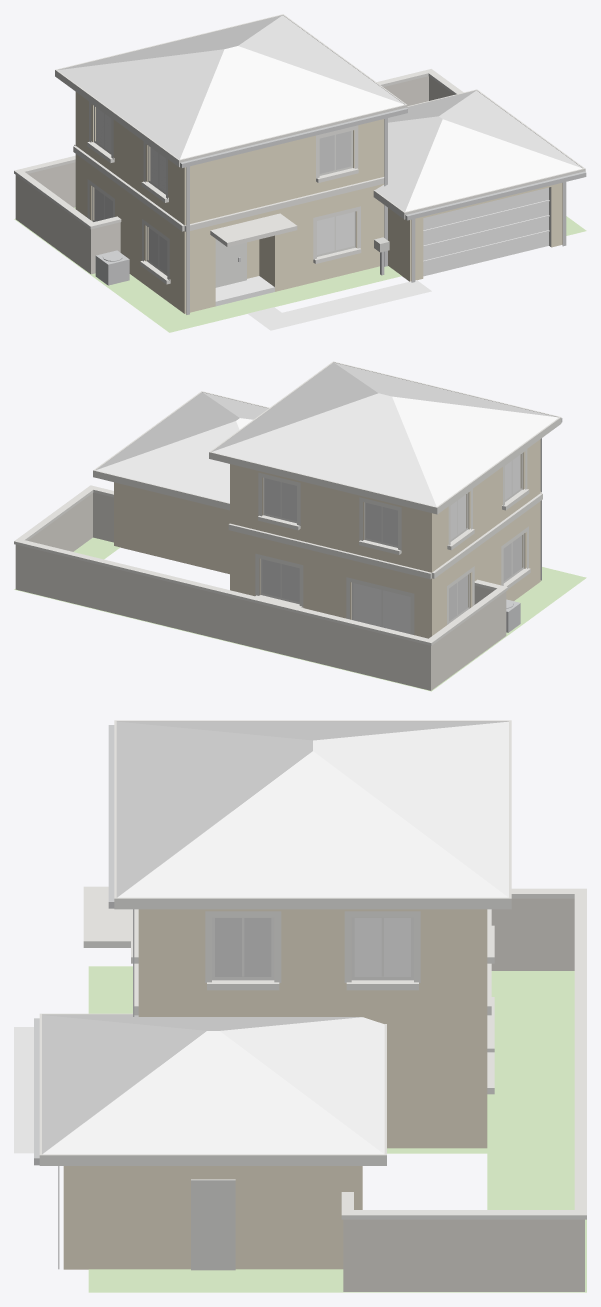
File: house_tract262s.glb
3 views of the same model, one above another, from view 1: azimuth 30°, elevation 25°; view 2: azimuth 150°, elevation 25°; view 3: azimuth 270°, elevation 25° (orthographic). The views are drawn at different scales.
Visible parts, largest first — view 1: house_tract262s_Roof, house_tract262s_Walls, house_tract262s_Trim, house_tract262s_Doors, house_tract262s_Walls2, house_tract262s_Lawn, house_tract262s_Details, house_tract262s_Site, house_tract262s_Glass, house_tract262s_Frames, house_tract262s_WindowsLit; view 2: house_tract262s_Roof, house_tract262s_Walls, house_tract262s_Walls2, house_tract262s_Trim, house_tract262s_WindowsLit, house_tract262s_Glass, house_tract262s_Lawn, house_tract262s_Frames, house_tract262s_Details; view 3: house_tract262s_Roof, house_tract262s_Walls, house_tract262s_Lawn, house_tract262s_Trim, house_tract262s_Walls2, house_tract262s_Accent, house_tract262s_Glass, house_tract262s_WindowsLit, house_tract262s_Details, house_tract262s_Site, house_tract262s_Frames.
Boxes of the visible parts, bbox=[...] form: house_tract262s_Roof: bbox=[58, 15, 582, 211]; house_tract262s_Walls: bbox=[75, 92, 562, 313]; house_tract262s_Trim: bbox=[14, 14, 585, 284]; house_tract262s_Doors: bbox=[423, 187, 549, 276]; house_tract262s_Walls2: bbox=[15, 76, 453, 274]; house_tract262s_Lawn: bbox=[14, 207, 586, 332]; house_tract262s_Details: bbox=[95, 107, 586, 314]; house_tract262s_Site: bbox=[215, 276, 431, 330]; house_tract262s_Glass: bbox=[96, 107, 354, 254]; house_tract262s_Frames: bbox=[92, 106, 355, 287]; house_tract262s_WindowsLit: bbox=[94, 131, 351, 273]; house_tract262s_Roof: bbox=[96, 362, 558, 506]; house_tract262s_Walls: bbox=[114, 439, 540, 638]; house_tract262s_Walls2: bbox=[15, 492, 506, 690]; house_tract262s_Trim: bbox=[14, 361, 561, 645]; house_tract262s_WindowsLit: bbox=[262, 478, 522, 621]; house_tract262s_Glass: bbox=[353, 454, 520, 634]; house_tract262s_Lawn: bbox=[14, 537, 586, 691]; house_tract262s_Frames: bbox=[260, 453, 524, 627]; house_tract262s_Details: bbox=[506, 418, 562, 632]; house_tract262s_Roof: bbox=[42, 721, 508, 1154]; house_tract262s_Walls: bbox=[63, 909, 487, 1269]; house_tract262s_Lawn: bbox=[88, 966, 586, 1292]; house_tract262s_Trim: bbox=[39, 720, 586, 1219]; house_tract262s_Walls2: bbox=[343, 898, 584, 1291]; house_tract262s_Accent: bbox=[191, 1179, 235, 1270]; house_tract262s_Glass: bbox=[354, 918, 410, 976]; house_tract262s_WindowsLit: bbox=[215, 918, 271, 976]; house_tract262s_Details: bbox=[34, 725, 134, 1269]; house_tract262s_Site: bbox=[14, 1027, 33, 1153]; house_tract262s_Frames: bbox=[212, 917, 413, 980].
Bounding box in the file's own units: 62 × 28.69 × 46.
